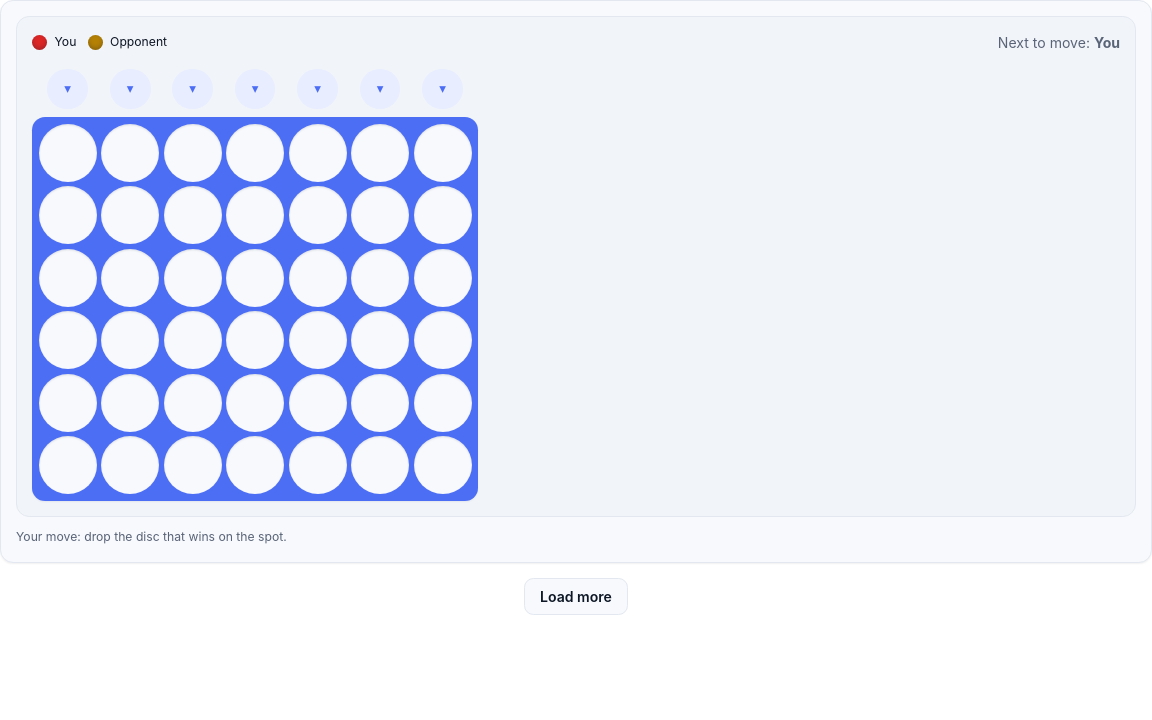
Test: TrainingPackFeed: card result variants › submits via board click for a connect4 puzzle
Click the button with test id "c4-col-3" at (255, 89), box [235,69,276,109]
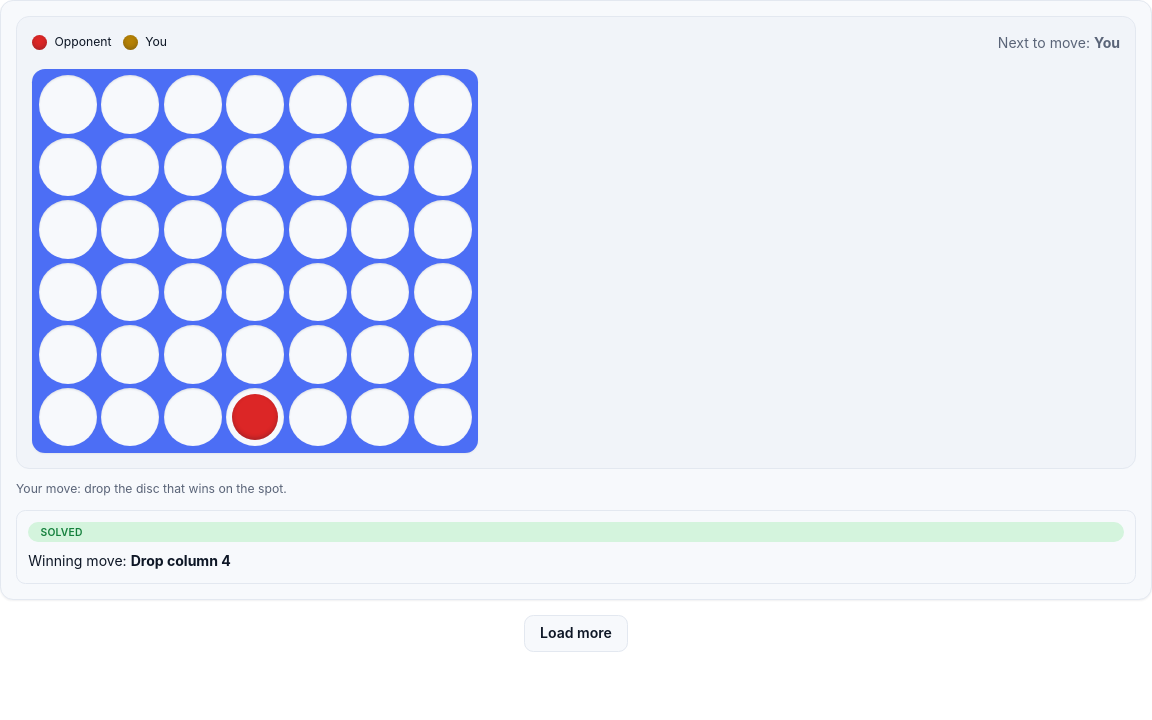
Now the element with test id "training-result" shows "Solved", box [40,526,83,538]
